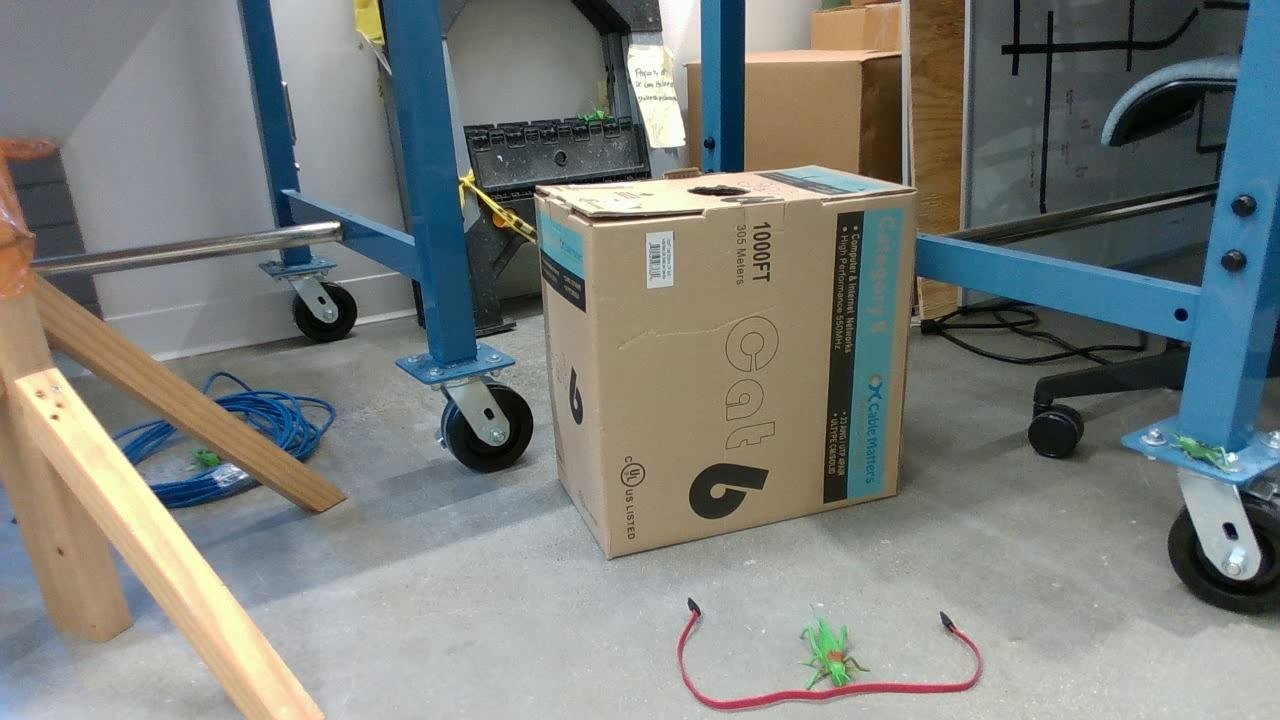grasshopper: (796, 618, 868, 689), (578, 109, 608, 122)
